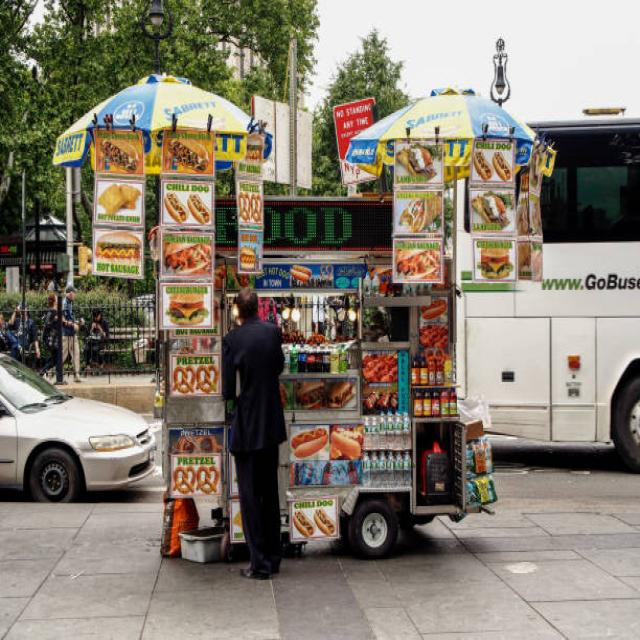Emperan: (41, 63, 573, 580)
